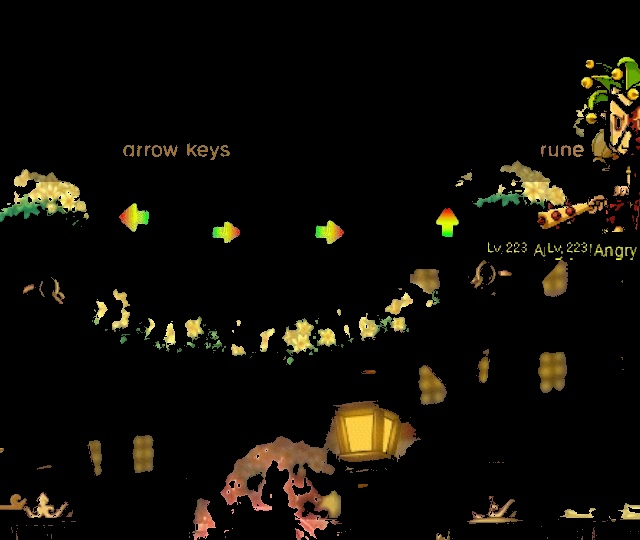left: (113, 200, 157, 240)
right: (307, 217, 355, 255), (204, 218, 248, 253)
up: (428, 196, 464, 245)
